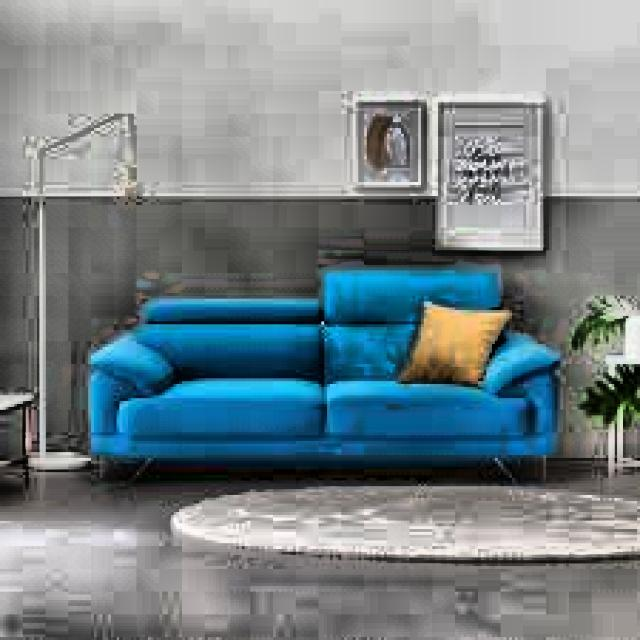sofa: (102, 264, 558, 480)
